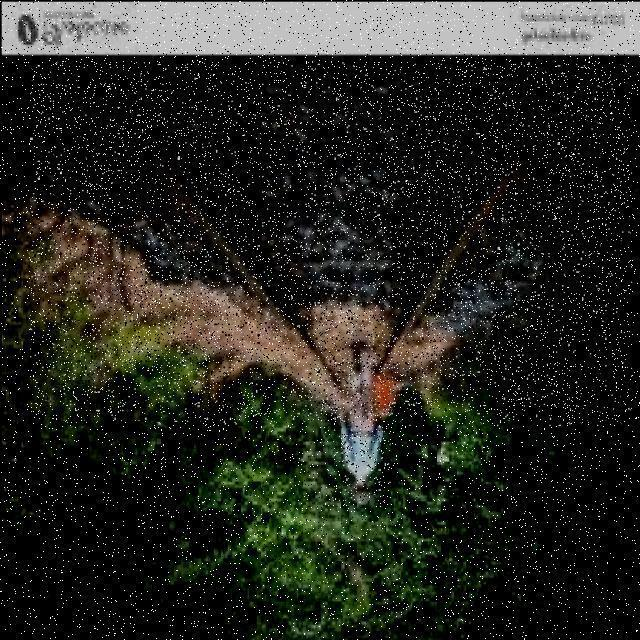rail: (31, 62, 631, 424)
